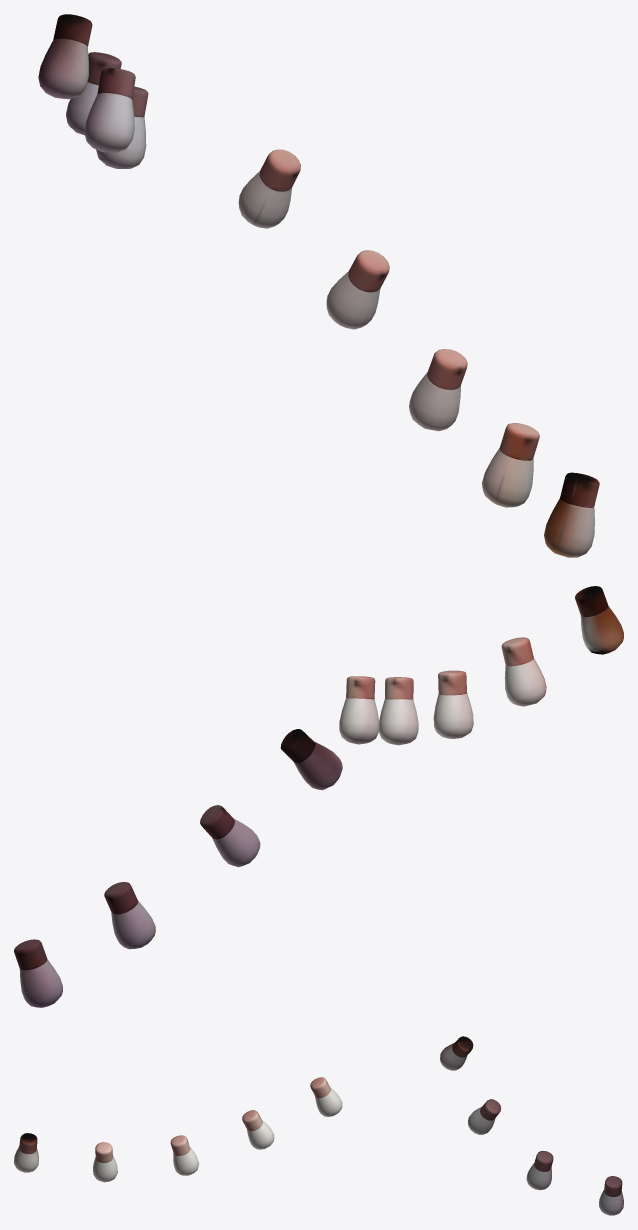
Rendered from bulbs.glb.
The picture shows the model from 3 angles, top to bottom: view 1: azimuth 30°, elevation 25°; view 2: azimuth 150°, elevation 25°; view 3: azimuth 270°, elevation 25°; orthographic projection. The views are drawn at different scales.
Parts seen in each view (by area): view 1: Bulb_1_Fourth_Raycaster_Hover_2, Bulb_7_Fourth_Raycaster_Hover_2, Bulb_6_Fourth_Raycaster_Hover_2, Bulb_2_Fourth_Raycaster_Hover_2, Bulb_3_Fourth_Raycaster_Hover_2, Bulb_4_Fourth_Raycaster_Hover_2, Bulb_5_Fourth_Raycaster_Hover_2, Bulb_9_Fourth_Raycaster_Hover_2, Bulb_8_Fourth_Raycaster_Hover_2; view 2: Bulb_2_Fourth_Raycaster_Hover_2, Bulb_9_Fourth_Raycaster_Hover_2, Bulb_1_Fourth_Raycaster_Hover_2, Bulb_3_Fourth_Raycaster_Hover_2, Bulb_5_Fourth_Raycaster_Hover_2, Bulb_8_Fourth_Raycaster_Hover_2, Bulb_4_Fourth_Raycaster_Hover_2, Bulb_6_Fourth_Raycaster_Hover_2, Bulb_7_Fourth_Raycaster_Hover_2; view 3: Bulb_5_Fourth_Raycaster_Hover_2, Bulb_3_Fourth_Raycaster_Hover_2, Bulb_4_Fourth_Raycaster_Hover_2, Bulb_2_Fourth_Raycaster_Hover_2, Bulb_1_Fourth_Raycaster_Hover_2, Bulb_8_Fourth_Raycaster_Hover_2, Bulb_9_Fourth_Raycaster_Hover_2, Bulb_7_Fourth_Raycaster_Hover_2, Bulb_6_Fourth_Raycaster_Hover_2.
Boxes of the visible parts, <box> form: Bulb_1_Fourth_Raycaster_Hover_2: <box>544,472,599,557</box>; Bulb_7_Fourth_Raycaster_Hover_2: <box>84,68,135,152</box>; Bulb_6_Fourth_Raycaster_Hover_2: <box>38,14,92,99</box>; Bulb_2_Fourth_Raycaster_Hover_2: <box>482,423,539,507</box>; Bulb_3_Fourth_Raycaster_Hover_2: <box>409,349,467,431</box>; Bulb_4_Fourth_Raycaster_Hover_2: <box>326,250,389,329</box>; Bulb_5_Fourth_Raycaster_Hover_2: <box>238,149,300,228</box>; Bulb_9_Fourth_Raycaster_Hover_2: <box>66,52,121,135</box>; Bulb_8_Fourth_Raycaster_Hover_2: <box>96,86,148,168</box>; Bulb_2_Fourth_Raycaster_Hover_2: <box>501,637,546,706</box>; Bulb_9_Fourth_Raycaster_Hover_2: <box>14,939,62,1007</box>; Bulb_1_Fourth_Raycaster_Hover_2: <box>575,586,623,654</box>; Bulb_3_Fourth_Raycaster_Hover_2: <box>433,670,473,738</box>; Bulb_5_Fourth_Raycaster_Hover_2: <box>339,676,379,744</box>; Bulb_8_Fourth_Raycaster_Hover_2: <box>104,882,155,949</box>; Bulb_4_Fourth_Raycaster_Hover_2: <box>379,677,418,745</box>; Bulb_6_Fourth_Raycaster_Hover_2: <box>280,729,342,790</box>; Bulb_7_Fourth_Raycaster_Hover_2: <box>200,805,260,867</box>; Bulb_5_Fourth_Raycaster_Hover_2: <box>310,1077,342,1116</box>; Bulb_3_Fourth_Raycaster_Hover_2: <box>170,1135,199,1175</box>; Bulb_4_Fourth_Raycaster_Hover_2: <box>242,1110,274,1149</box>; Bulb_2_Fourth_Raycaster_Hover_2: <box>93,1142,117,1182</box>; Bulb_1_Fourth_Raycaster_Hover_2: <box>14,1133,38,1172</box>; Bulb_8_Fourth_Raycaster_Hover_2: <box>526,1151,553,1190</box>; Bulb_9_Fourth_Raycaster_Hover_2: <box>599,1176,623,1215</box>; Bulb_7_Fourth_Raycaster_Hover_2: <box>468,1099,501,1134</box>; Bulb_6_Fourth_Raycaster_Hover_2: <box>440,1036,473,1070</box>.
Bounding box in the file's own units: 0.8947 × 0.9741 × 3.97.
1 material, 1 textured.
